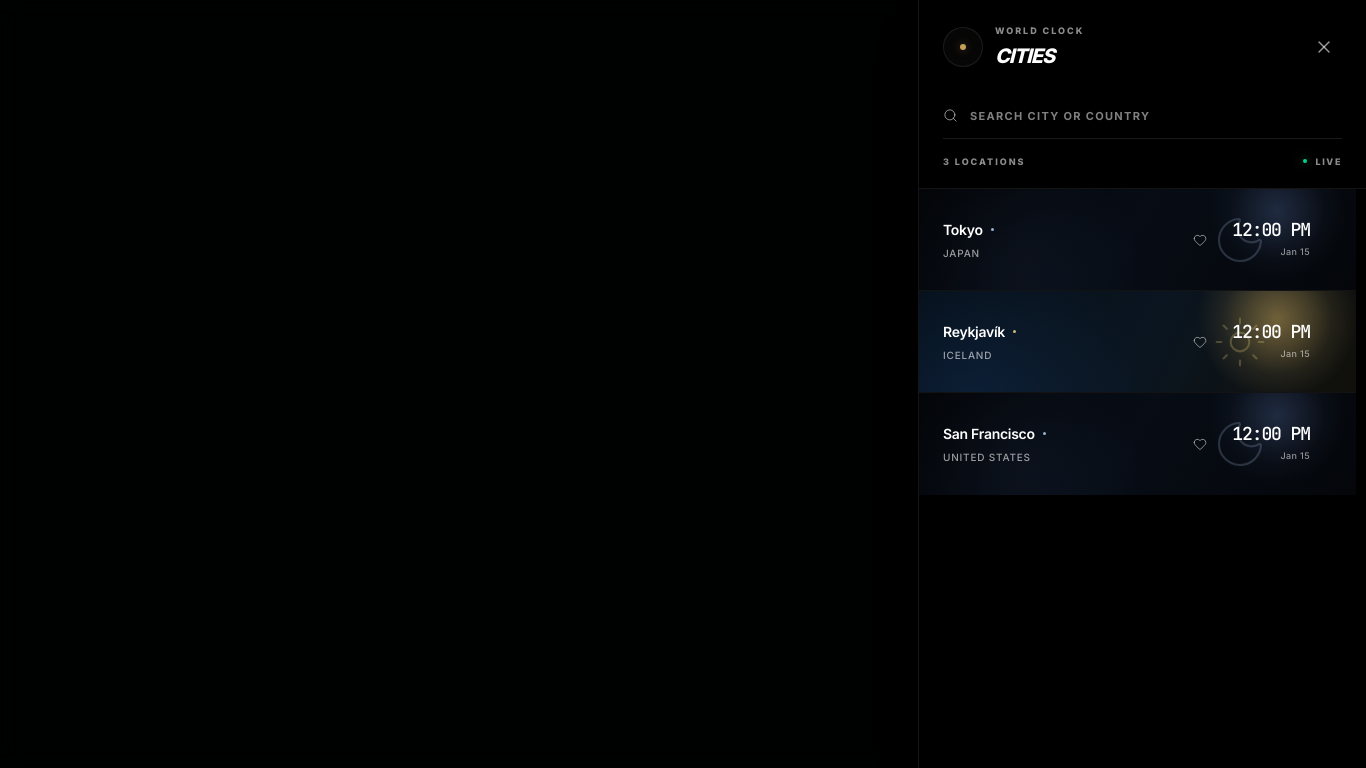
Test: CitiesSection — city rows › shows an empty state when there are no results
Check: the dialog is shown, box [918,0,1365,767]
In the search field named "Search cities": (1156, 116) [970,94,1342,138], type "zzzzz-not-a-place"
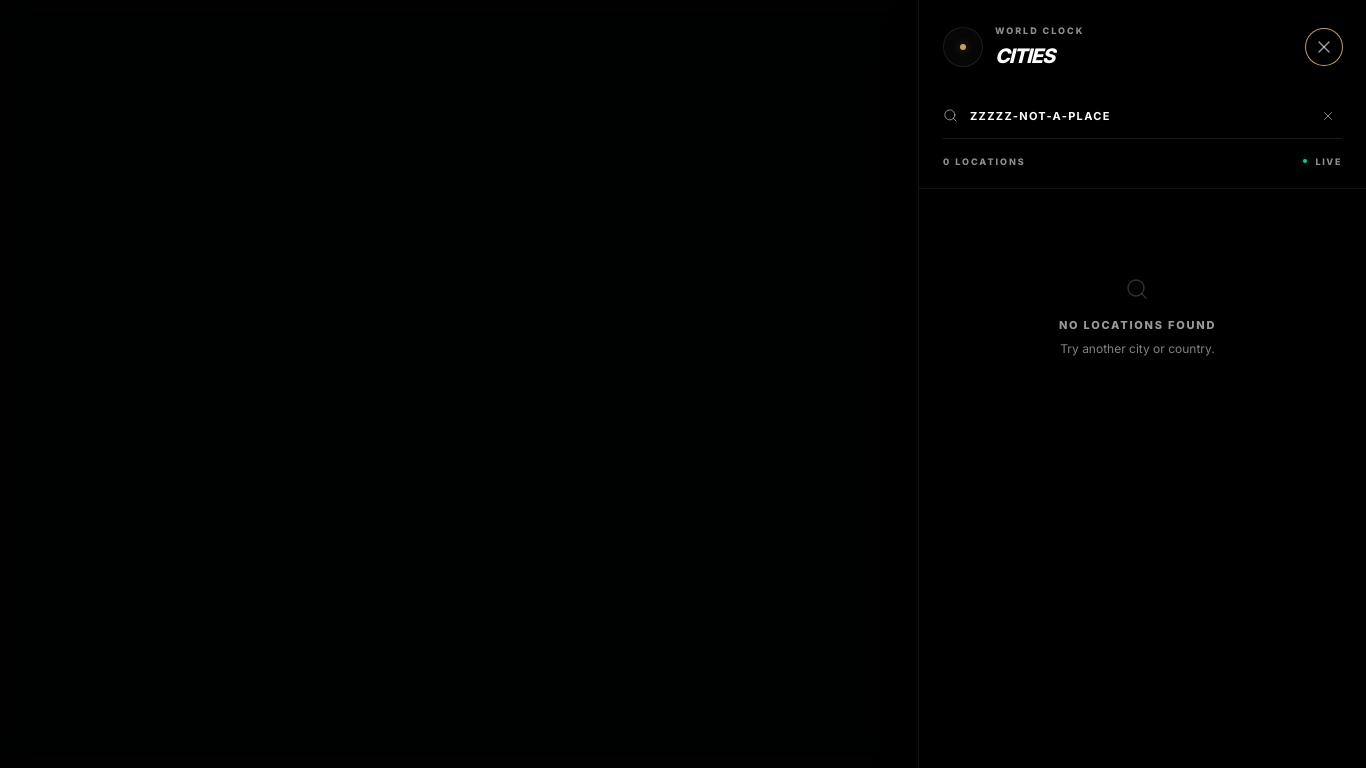
Check: the text "No locations found" is shown, box [1059,317,1216,333]
Check: the text "Try another city or country." is shown, box [1059,341,1216,357]
